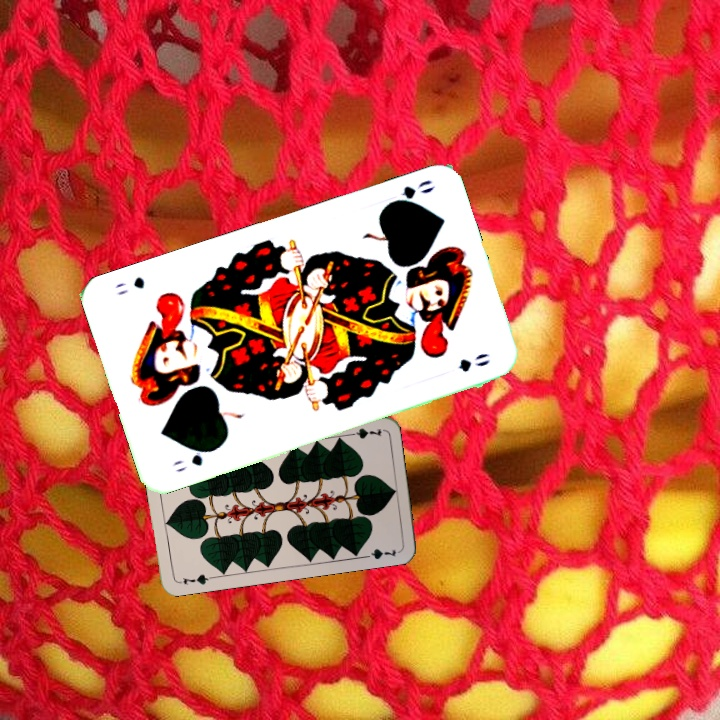G7: (344, 424, 384, 441), (174, 570, 214, 587)
GO: (381, 175, 437, 210), (169, 444, 218, 475)
